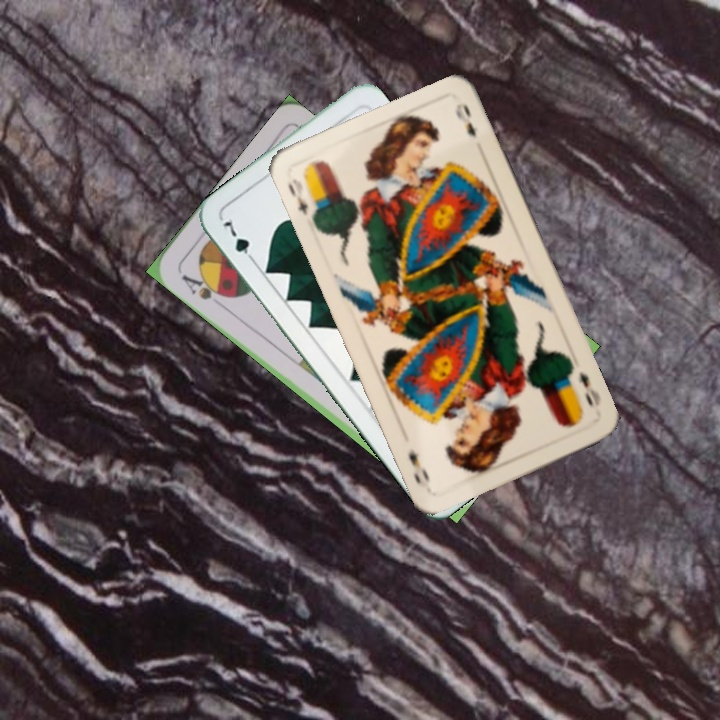EO: (284, 174, 320, 224), (574, 367, 603, 409)
G7: (218, 214, 259, 267)
SA: (177, 270, 231, 303)
